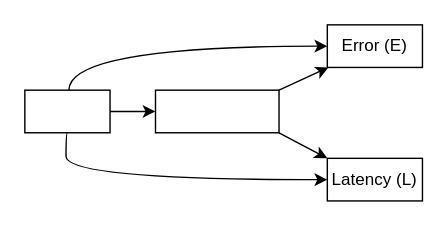
This 447x226 diagram has some shape labels left out. The shapes that lost their labels are listed below. From the top down, each one's centre as x and y in pixels, then its label:
point (66, 111): Traffic (T)
point (216, 111): Saturation (T)
